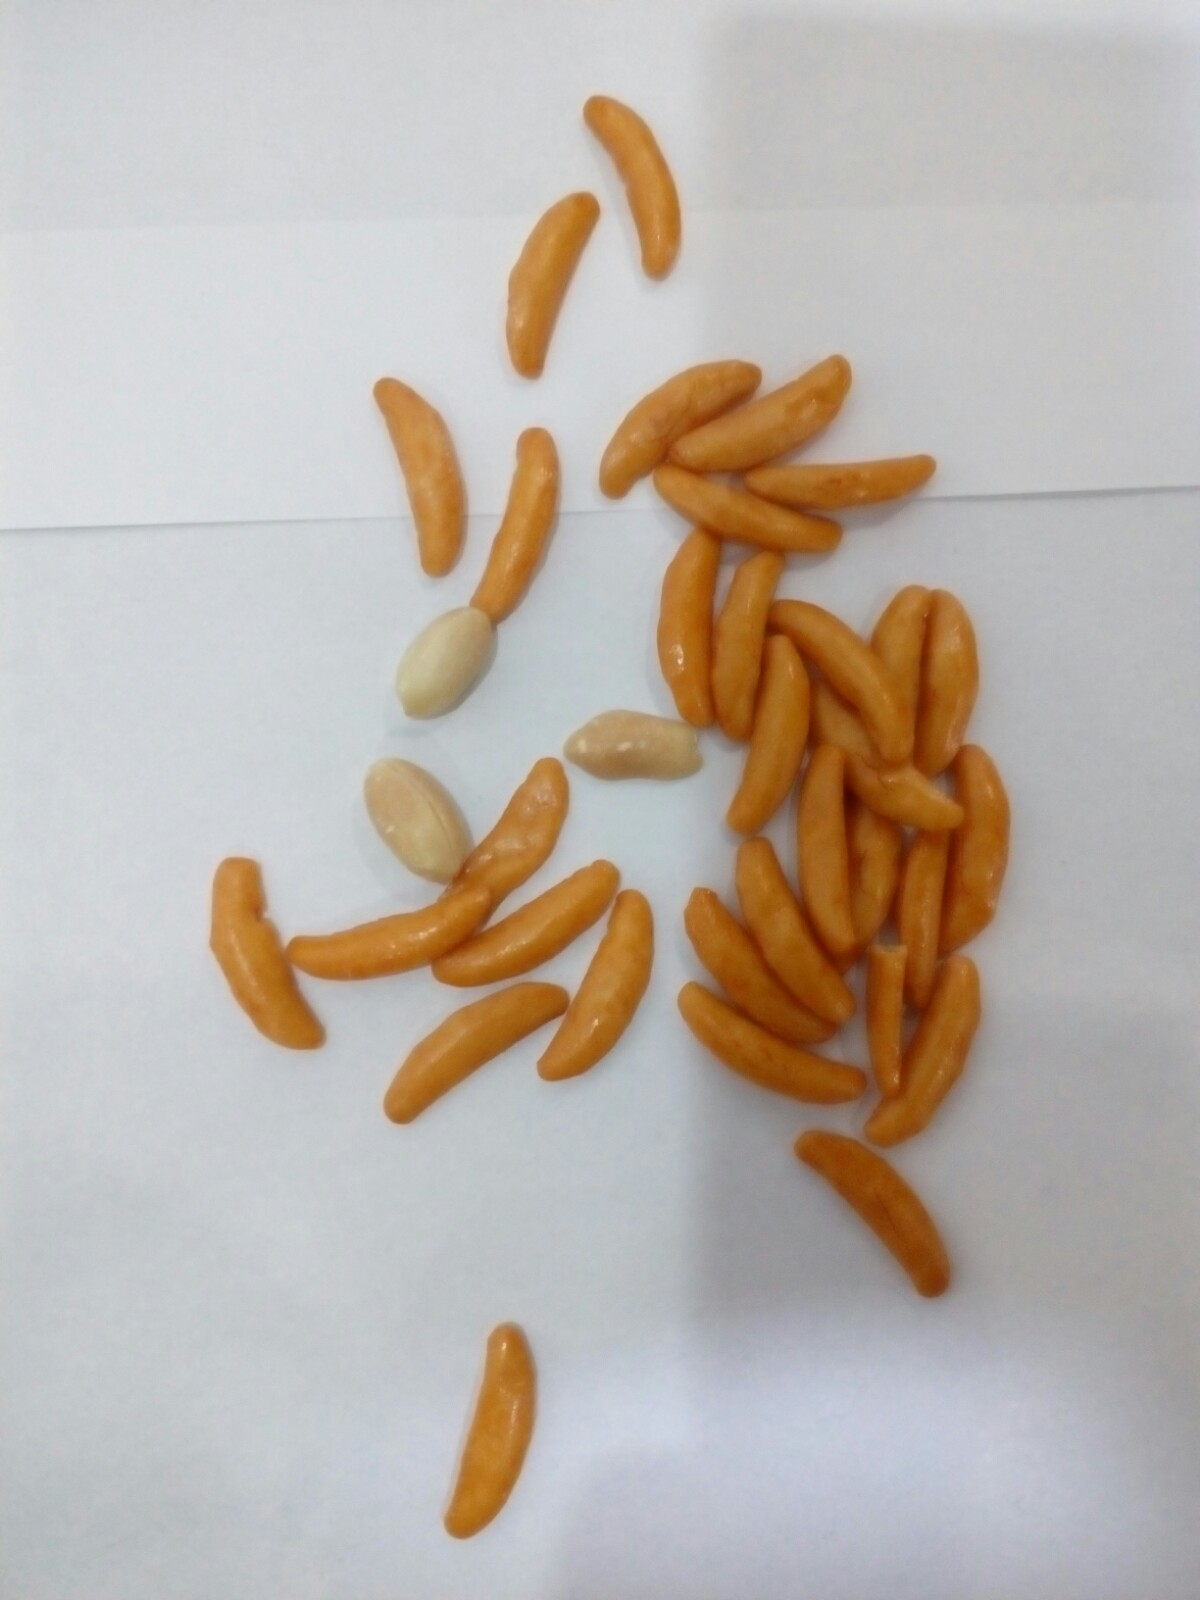peanut: (358, 757, 479, 893), (555, 699, 720, 797), (389, 597, 499, 714)
